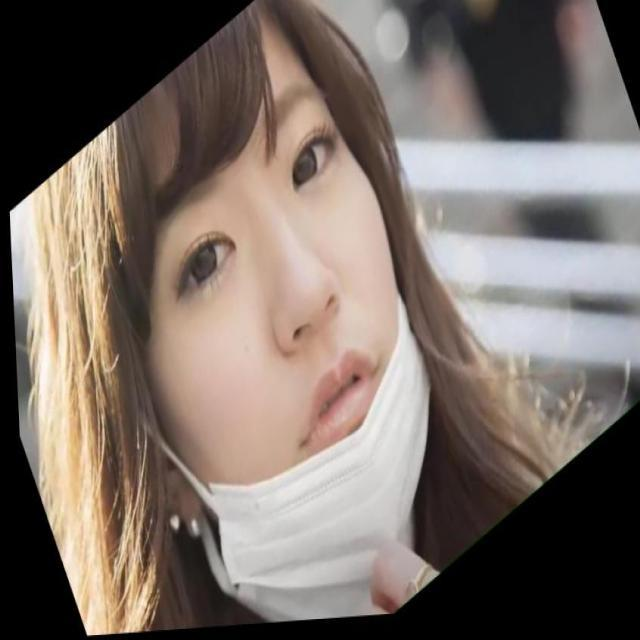hairnet: (113, 48, 461, 633)
